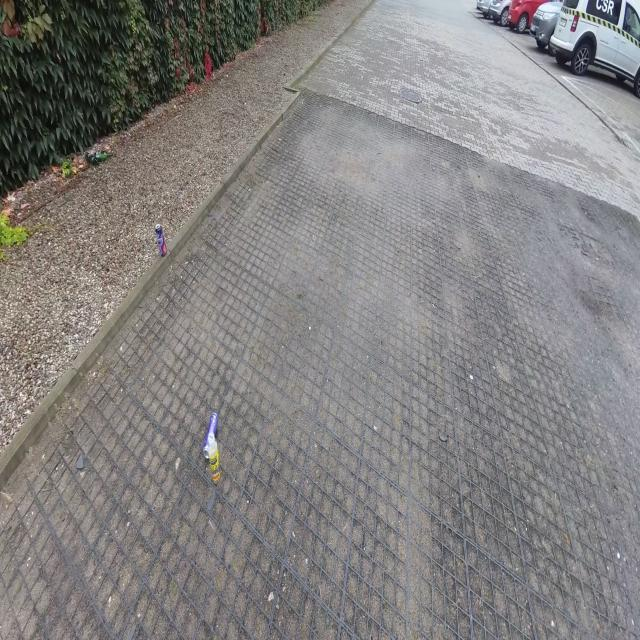rubbish: (203, 412, 219, 459), (208, 432, 221, 485), (155, 224, 166, 257), (94, 150, 113, 161), (85, 152, 99, 165)
